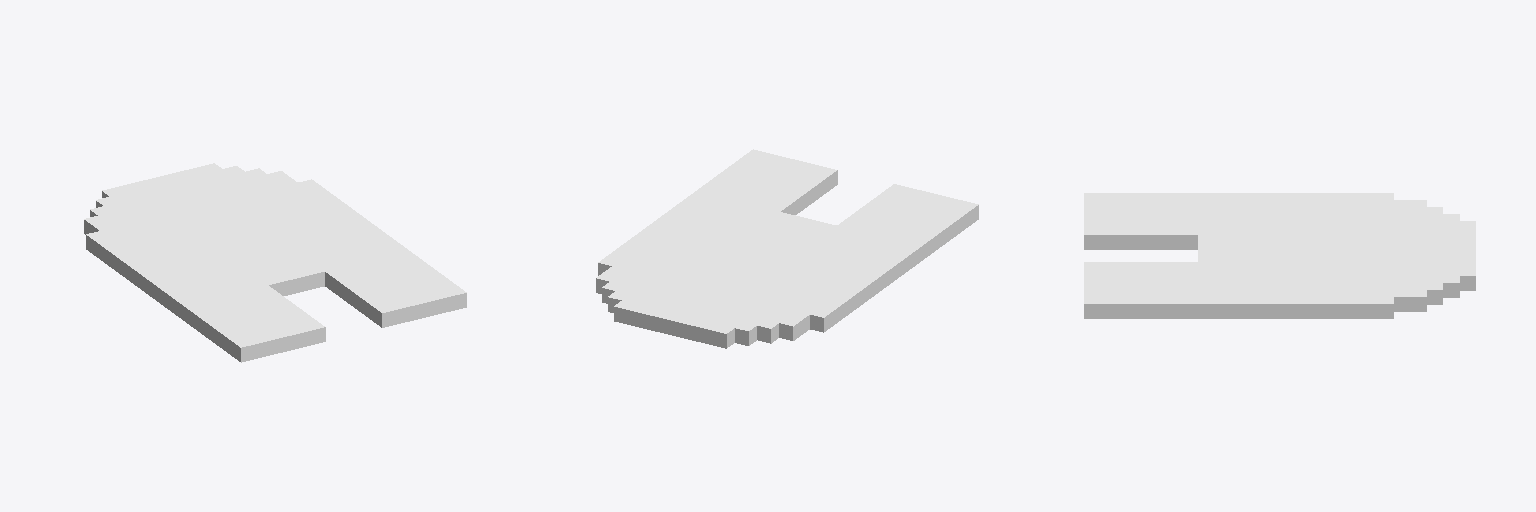
File: artist_2.obj
3 views of the same model, side by side, from view 1: azimuth 30°, elevation 25°; view 2: azimuth 150°, elevation 25°; view 3: azimuth 270°, elevation 25° (orthographic).
Bounding box in the file's own units: 16 × 1 × 24.